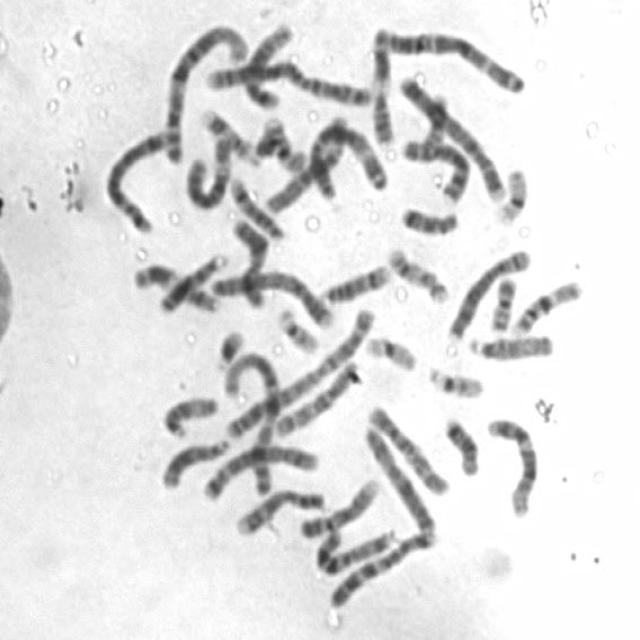A1: (159, 18, 251, 166), (220, 346, 284, 499)
A2: (222, 301, 379, 442), (201, 54, 374, 107)
A3: (369, 20, 528, 96), (296, 112, 391, 195)
B4: (394, 68, 510, 203), (204, 263, 336, 330)
B5: (99, 122, 171, 236), (198, 436, 321, 501)
C10: (364, 398, 453, 496), (270, 354, 362, 438)
C11: (130, 256, 224, 314), (366, 22, 397, 148)
C12: (483, 411, 542, 519), (239, 15, 295, 110)
C6: (259, 110, 351, 216), (180, 131, 234, 212)
C7: (324, 525, 439, 611), (311, 522, 399, 577)
C8: (443, 242, 534, 343), (398, 132, 474, 205)
C9: (295, 472, 382, 540), (230, 482, 328, 538)
D13: (153, 248, 229, 316), (157, 432, 232, 491)
D14: (224, 171, 286, 242), (318, 257, 394, 305)
D15: (462, 326, 557, 363), (157, 389, 220, 441)
E16: (507, 273, 586, 338), (258, 112, 310, 175)
E17: (382, 239, 452, 305), (195, 101, 259, 166)
E18: (440, 410, 482, 478), (395, 199, 462, 237)
F19: (491, 161, 531, 227), (361, 329, 420, 373)
F20: (484, 271, 520, 332), (418, 88, 451, 150)
G21: (243, 112, 285, 169), (210, 322, 247, 373)
G22: (422, 359, 487, 401), (272, 301, 322, 355)
X: (358, 420, 438, 539), (229, 214, 270, 310)
